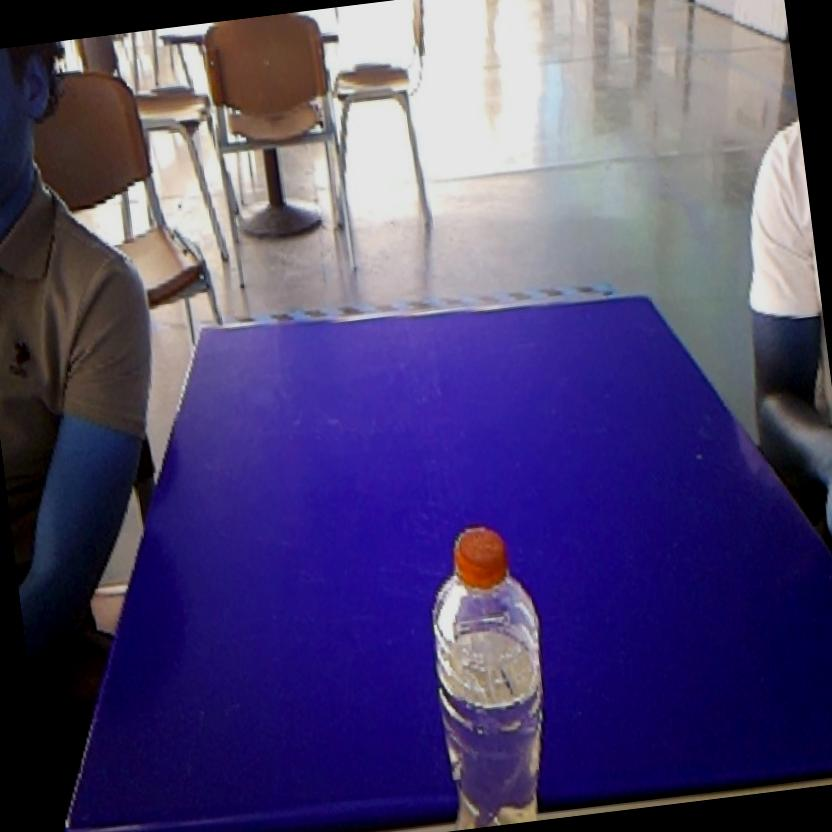no_label: (406, 508, 570, 824)
